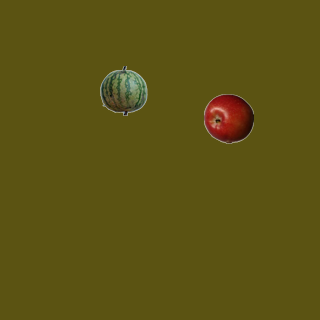Apple Braeburn: (203, 93, 253, 143)
Watermelon: (98, 65, 148, 115)
